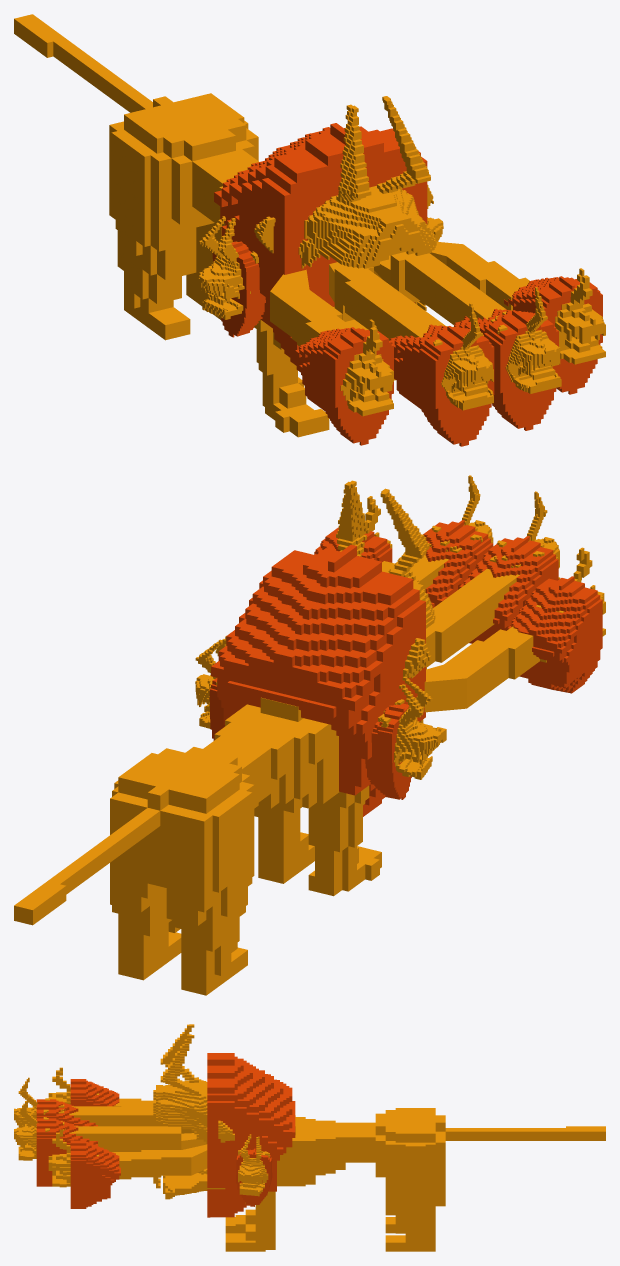
The model's file is The Beast 666.fbx.
3 views of the same model, one above another, from view 1: azimuth 30°, elevation 25°; view 2: azimuth 150°, elevation 25°; view 3: azimuth 270°, elevation 25° (orthographic). The views are drawn at different scales.
Visible parts, largest first — view 1: 01 Cuerpo 666, Cube.003, Cube, 02 Gula, 05 Soberbia y Pereza, 03 Envidia y Lujuria, 04 Ira y Avaricia, Cube.002; view 2: 01 Cuerpo 666, Cube, Cube.003, 02 Gula, 04 Ira y Avaricia, Cube.002, 05 Soberbia y Pereza, 03 Envidia y Lujuria; view 3: 01 Cuerpo 666, Cube, Cube.003, 02 Gula, 05 Soberbia y Pereza, 03 Envidia y Lujuria, 04 Ira y Avaricia, Cube.002.
Boxes of the visible parts, x1=… form: 01 Cuerpo 666: x1=14, y1=14, x2=529, y2=437; Cube.003: x1=295, y1=276, x2=602, y2=446; Cube: x1=214, y1=123, x2=427, y2=372; 02 Gula: x1=254, y1=96, x2=436, y2=380; 05 Soberbia y Pereza: x1=430, y1=287, x2=561, y2=410; 03 Envidia y Lujuria: x1=340, y1=268, x2=605, y2=416; 04 Ira y Avaricia: x1=198, y1=196, x2=443, y2=319; Cube.002: x1=212, y1=241, x2=265, y2=337; 01 Cuerpo 666: x1=14, y1=554, x2=546, y2=995; Cube: x1=211, y1=544, x2=425, y2=816; Cube.003: x1=314, y1=520, x2=602, y2=693; 02 Gula: x1=336, y1=480, x2=446, y2=742; 04 Ira y Avaricia: x1=195, y1=636, x2=442, y2=779; Cube.002: x1=209, y1=678, x2=411, y2=799; 05 Soberbia y Pereza: x1=429, y1=475, x2=560, y2=579; 03 Envidia y Lujuria: x1=365, y1=496, x2=605, y2=636; 01 Cuerpo 666: x1=69, y1=1098, x2=605, y2=1251; Cube: x1=207, y1=1053, x2=295, y2=1217; Cube.003: x1=36, y1=1079, x2=120, y2=1208; 02 Gula: x1=153, y1=1024, x2=234, y2=1199; 05 Soberbia y Pereza: x1=14, y1=1077, x2=65, y2=1160; 03 Envidia y Lujuria: x1=48, y1=1067, x2=98, y2=1187; 04 Ira y Avaricia: x1=238, y1=1134, x2=269, y2=1196; Cube.002: x1=236, y1=1148, x2=272, y2=1206.
Size of the model in its own units: 665 by 821 by 2114.
